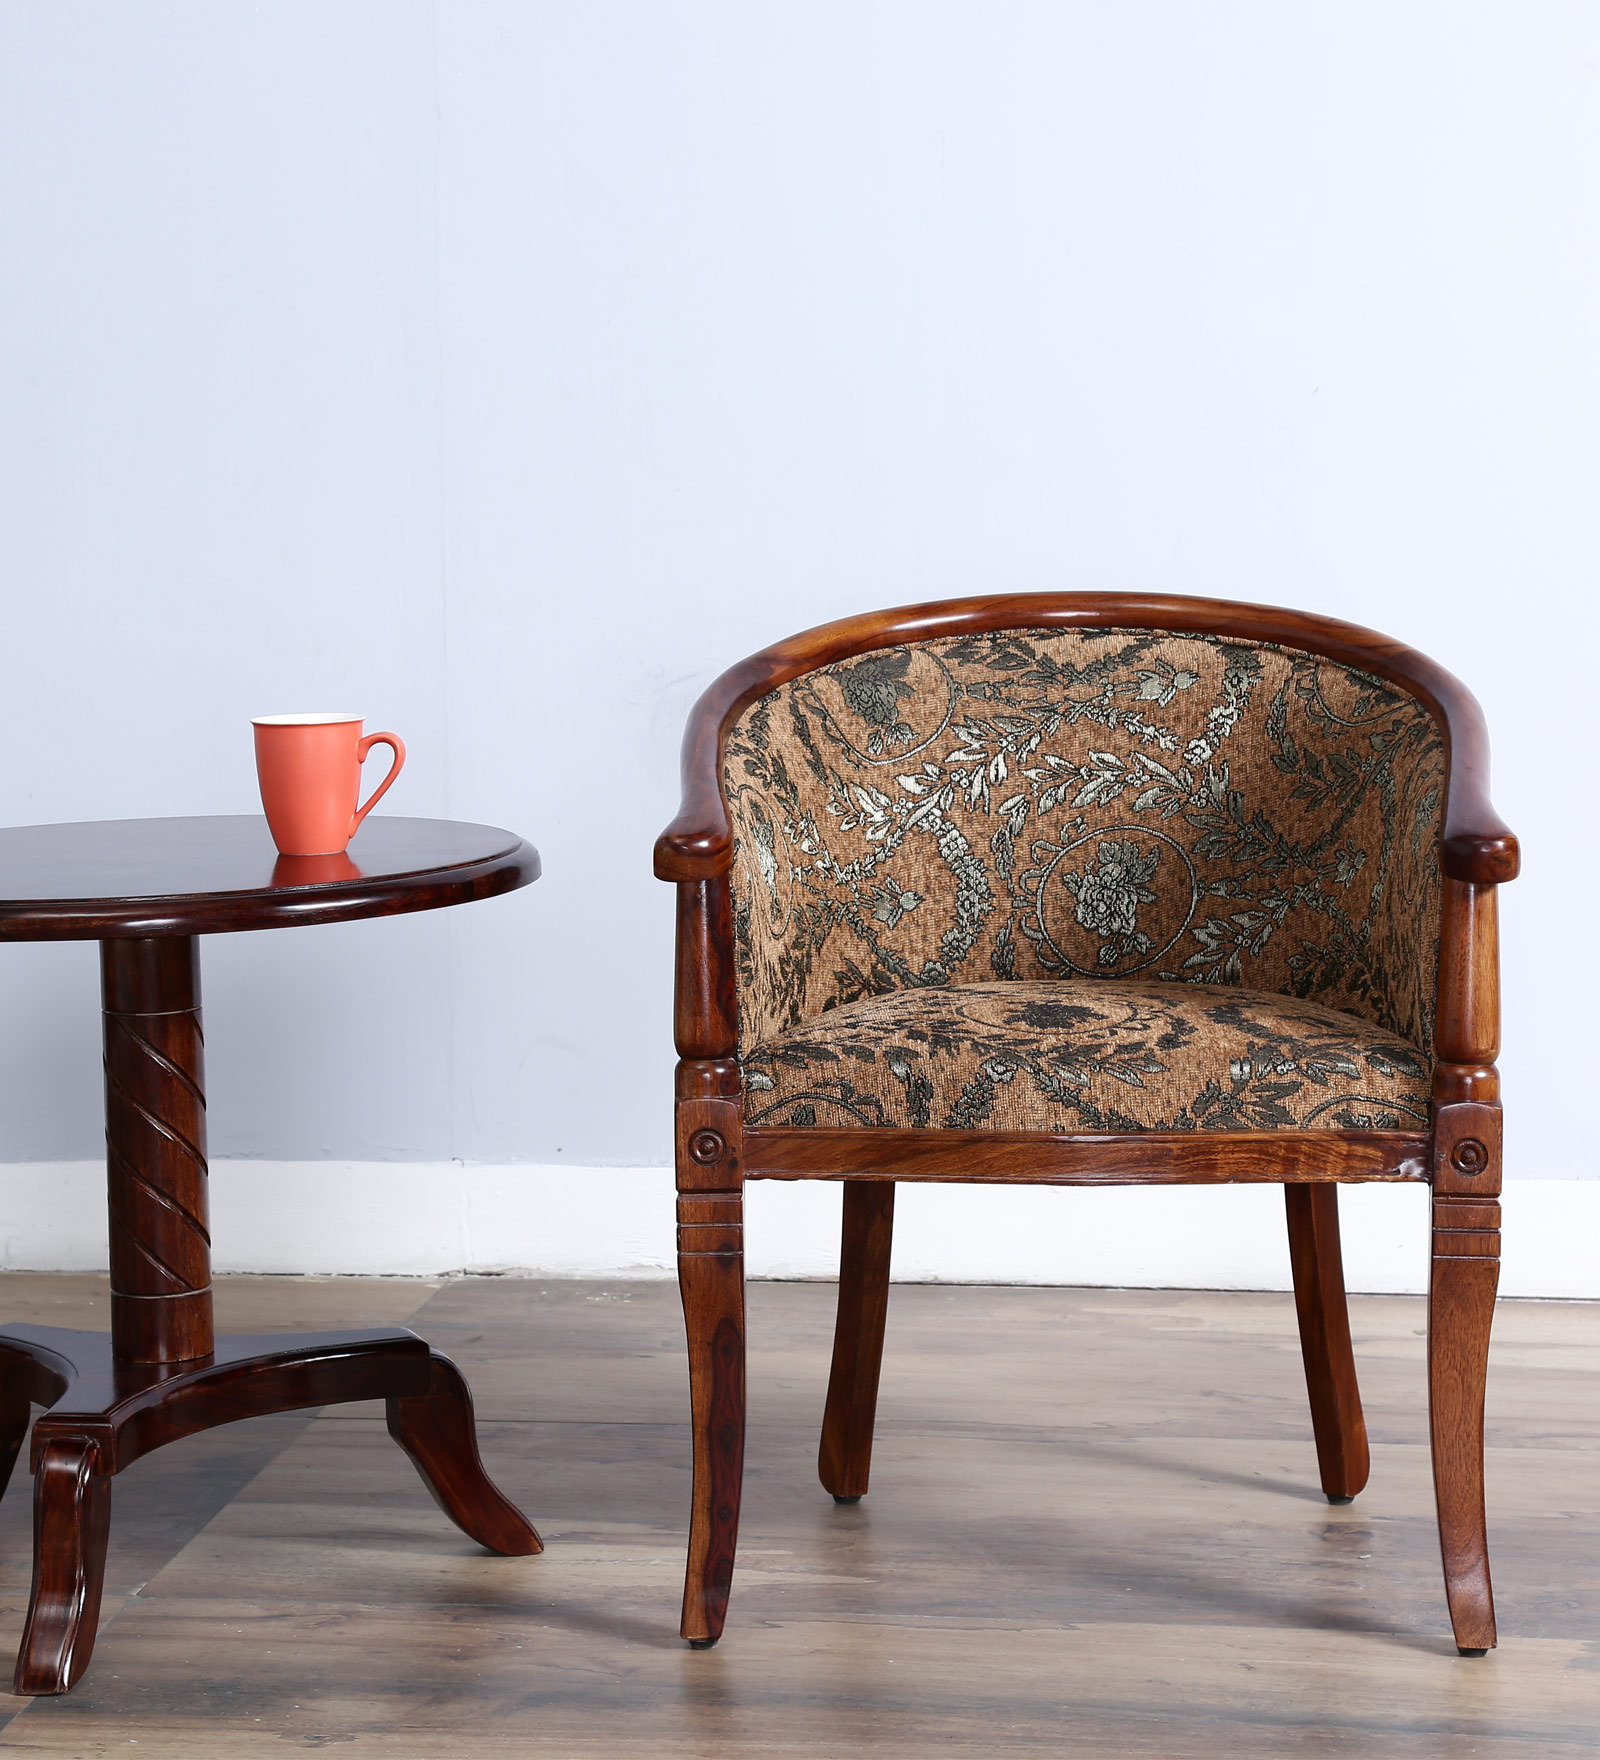Stalley Arm Chair in Honey Oak Finish by Amberville: (622, 564, 1572, 1703)
